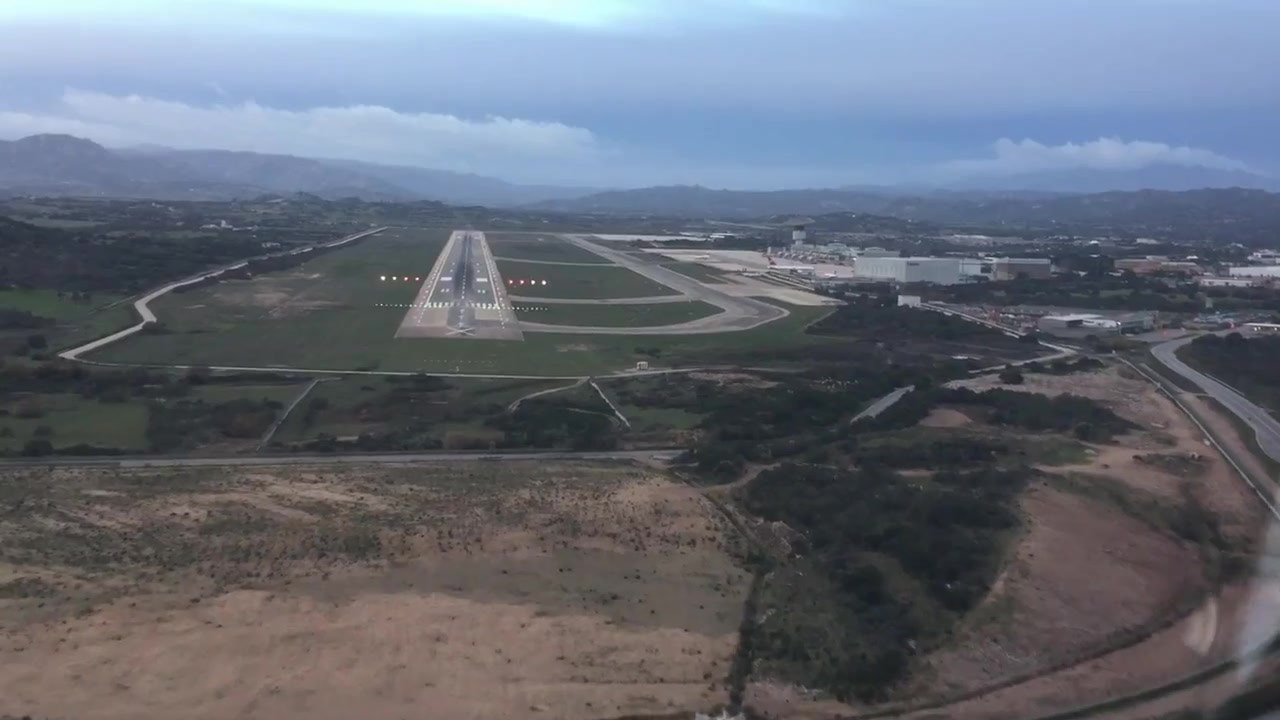entrance: (425, 302, 497, 311)
runway: (397, 232, 525, 340)
